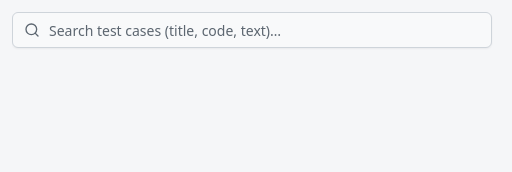
GlobalSearch › Enter without a highlight filters the library in the suite of the best match
Later steps or results of the test are not shown.
Type "  power " into the dropdown named "Search the test case library". click: (252, 30)
box: [12,12,492,48]
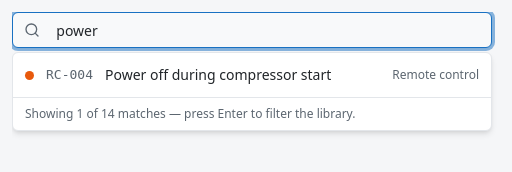
Check: the option "RC-004 Power off during compressor start Remote control" is shown, box [13,57,491,93]
Check: the message shows "Showing 1 of 14 matches", box [13,97,491,130]
